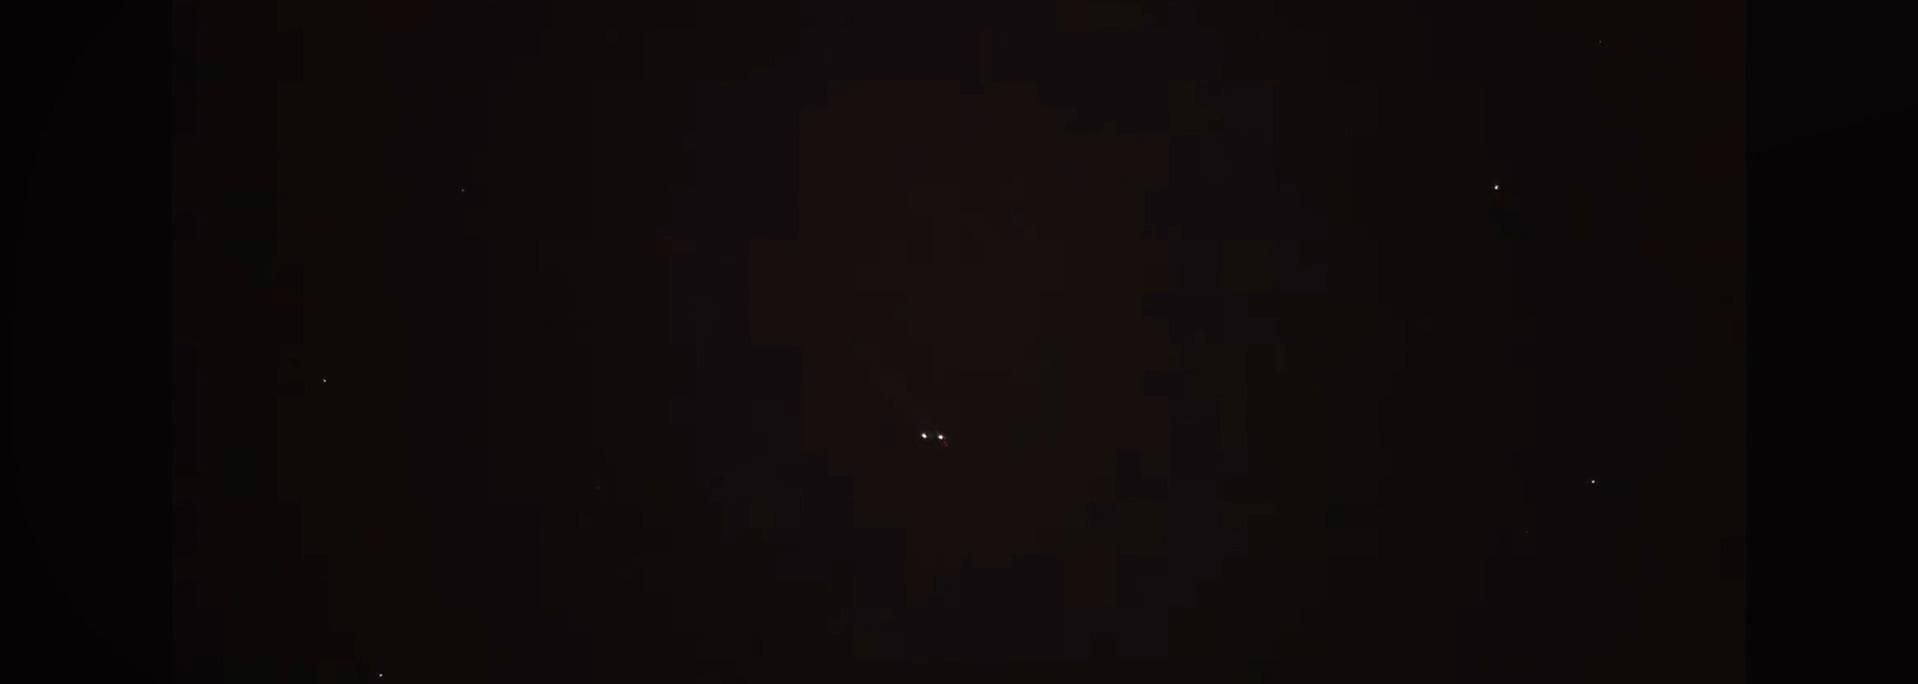Plane: (904, 418, 965, 453)
